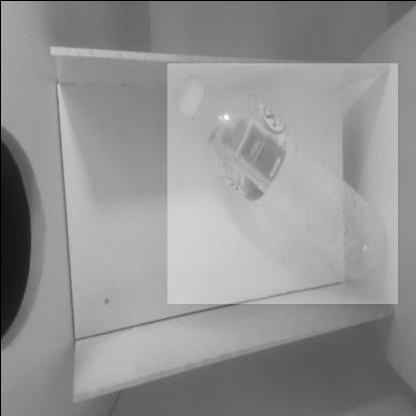plastic_bottles: (167, 63, 397, 303)
